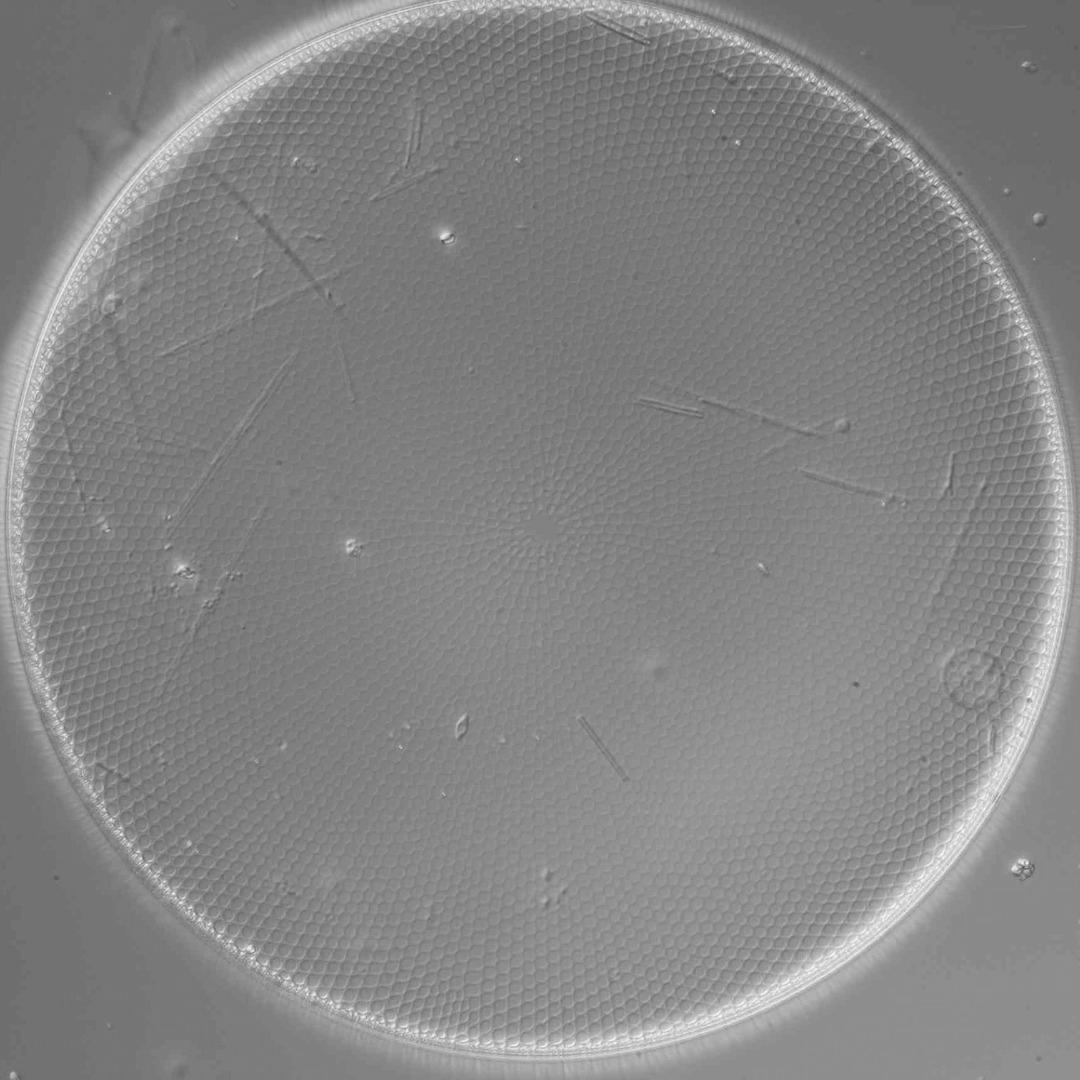coscinodiscus_oculus_iridis: (1, 0, 1077, 1065)
